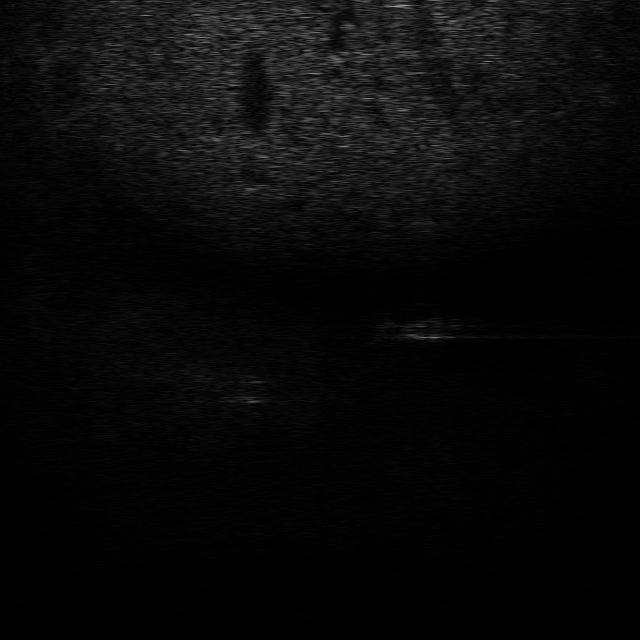ball: (226, 377, 272, 406)
human body: (370, 309, 469, 345)
